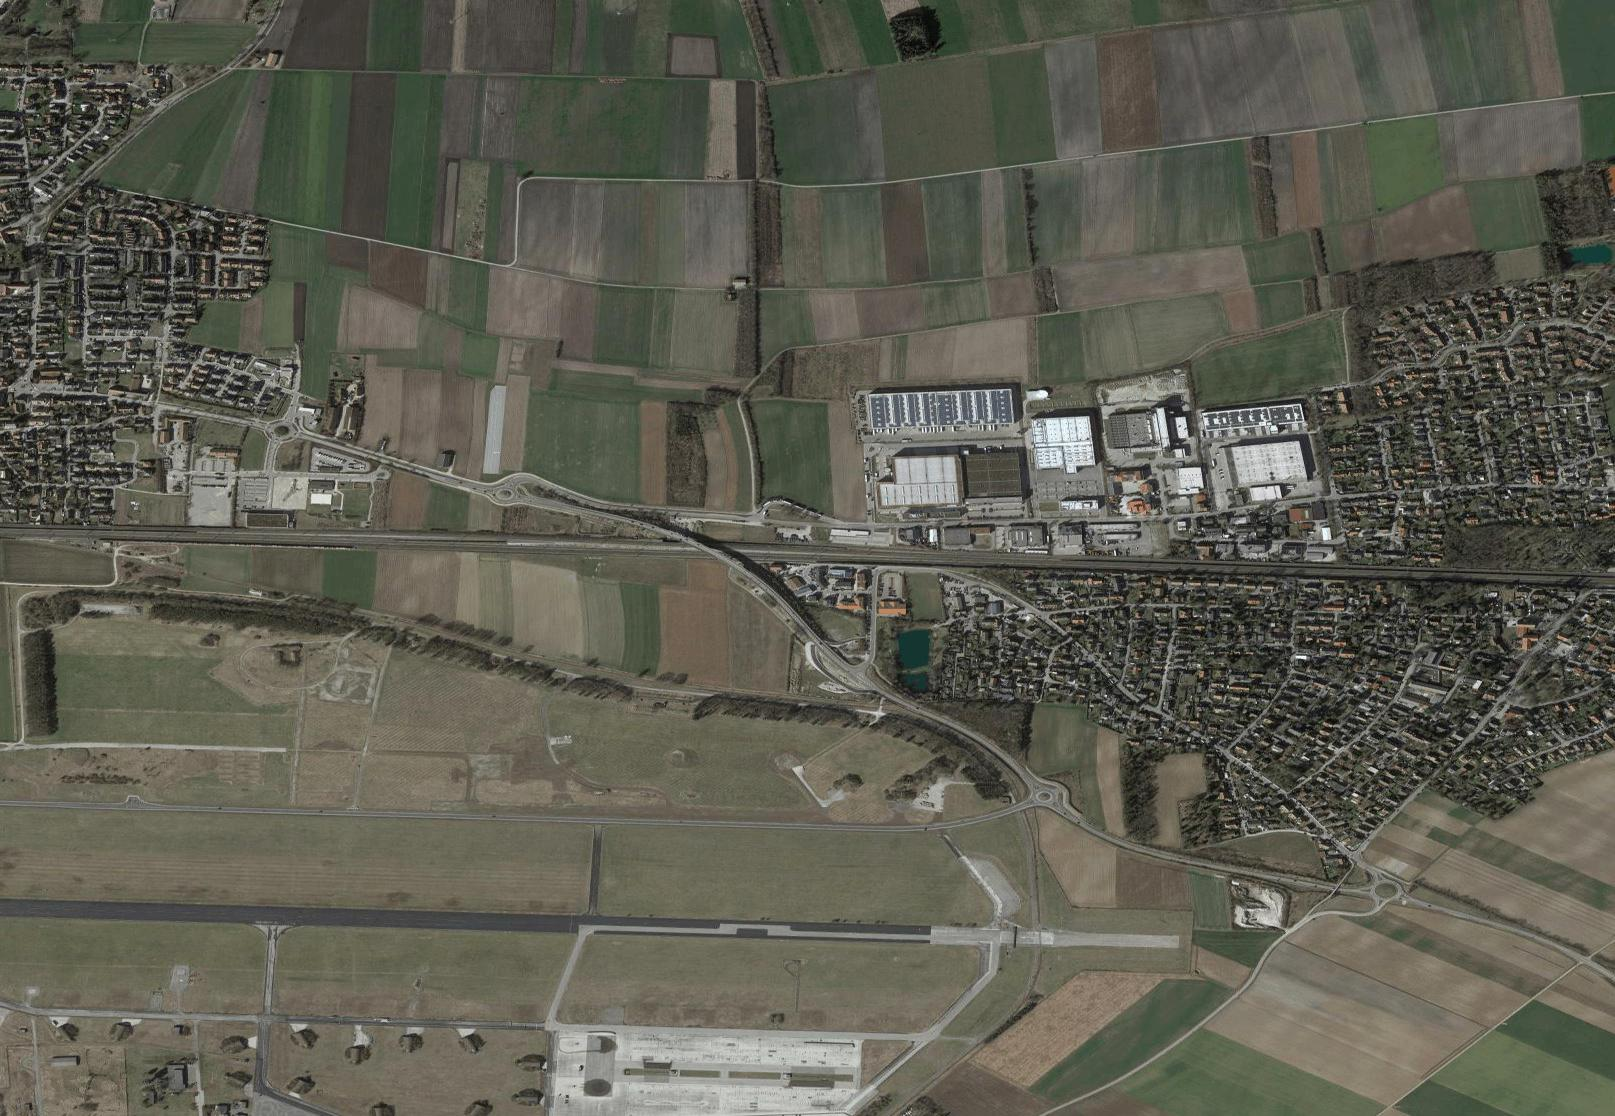industrial: (846, 374, 1317, 551)
motorway: (434, 525, 861, 564), (861, 540, 1289, 578), (1, 517, 434, 549), (1287, 552, 1615, 582)
